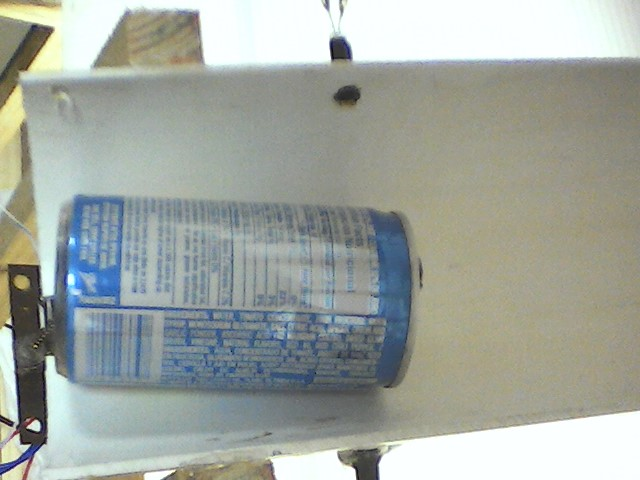lata: (52, 191, 432, 408)
